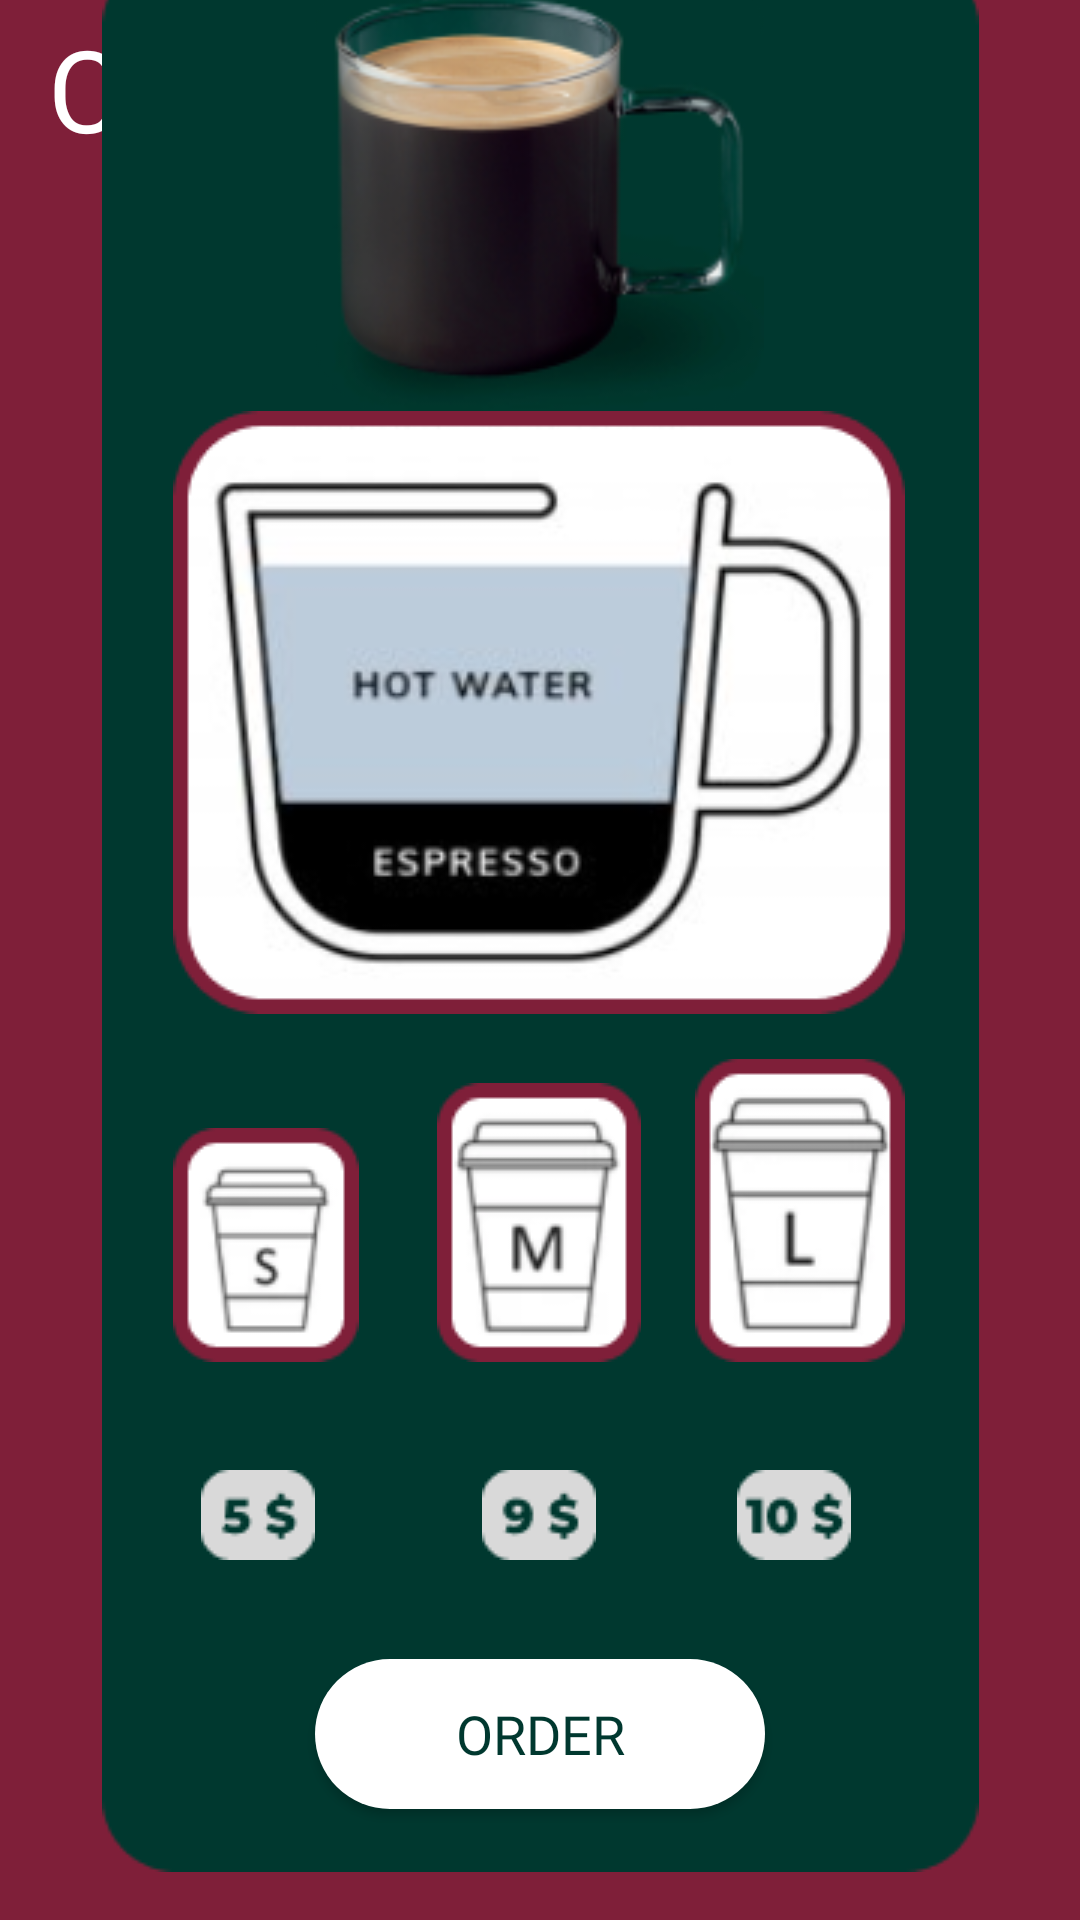

Icons on this 1080px x 1920px Android screen, each with its box as [left=x1, top=y1, right=x2, bottom=y2]:
size coffee: [left=695, top=1059, right=905, bottom=1362], [left=437, top=1083, right=641, bottom=1362], [left=173, top=1128, right=359, bottom=1362]
